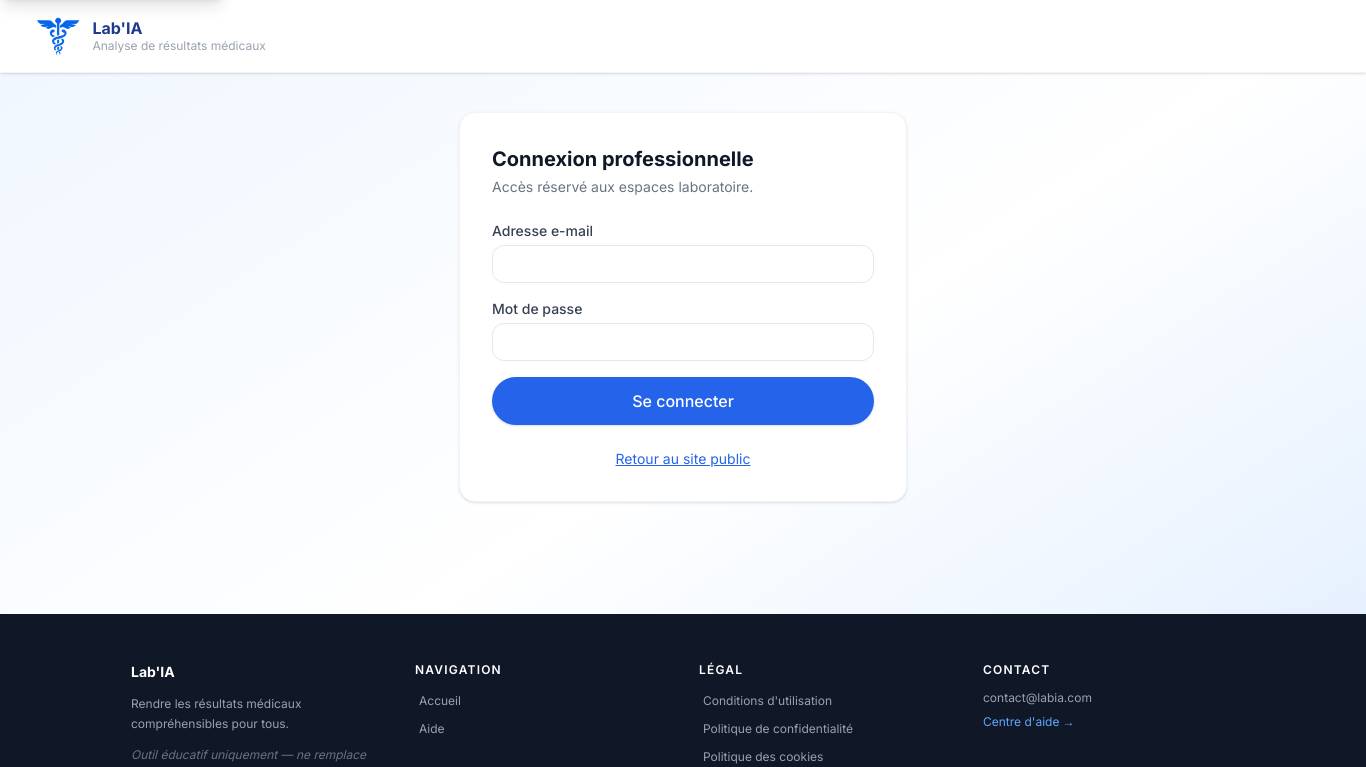
it: Page Login — intégration › affiche le message d'erreur quand login retourne false
This screenshot has width=1366, height=767.
In the field labelled "Adresse e-mail": (683, 264) [492,245,874,283], type "bad@test.com"
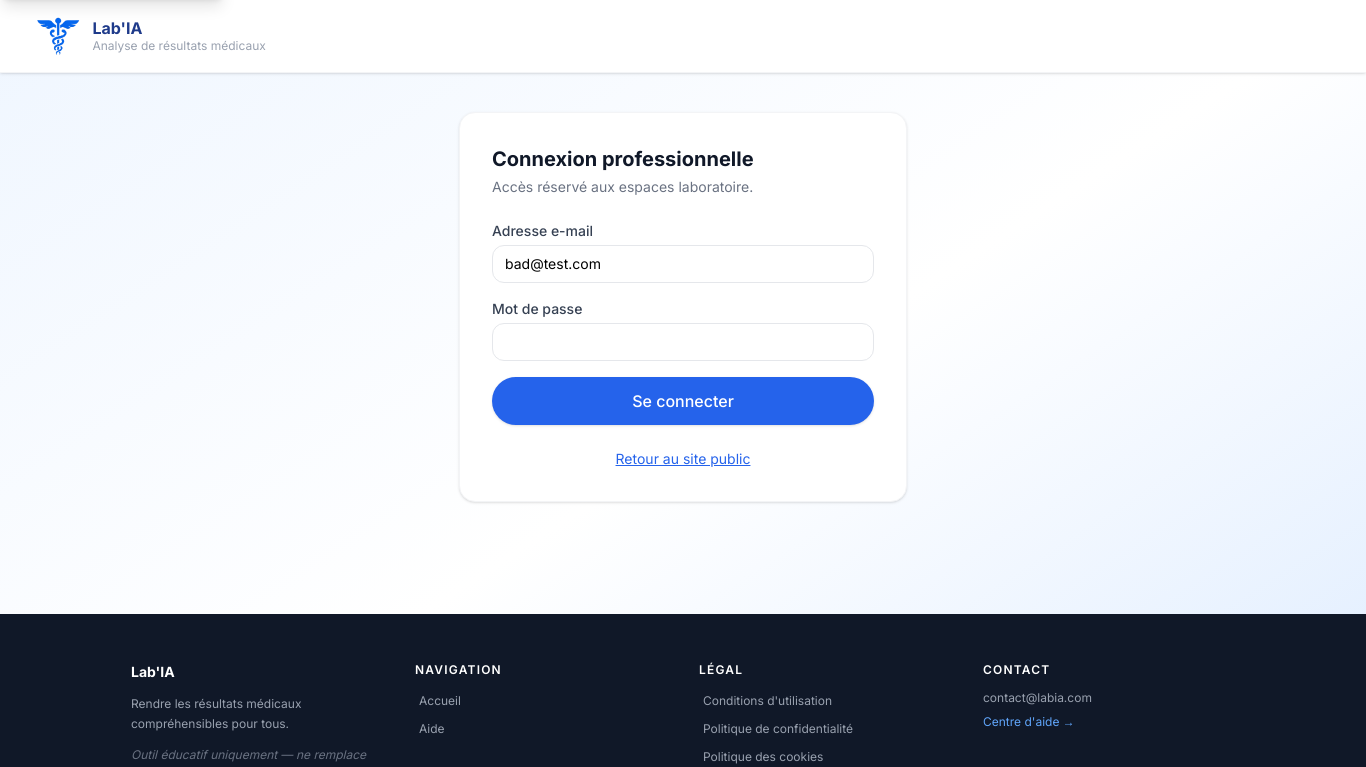
In the password field labelled "Mot de passe": (683, 342) [492,323,874,361], type "wrong"
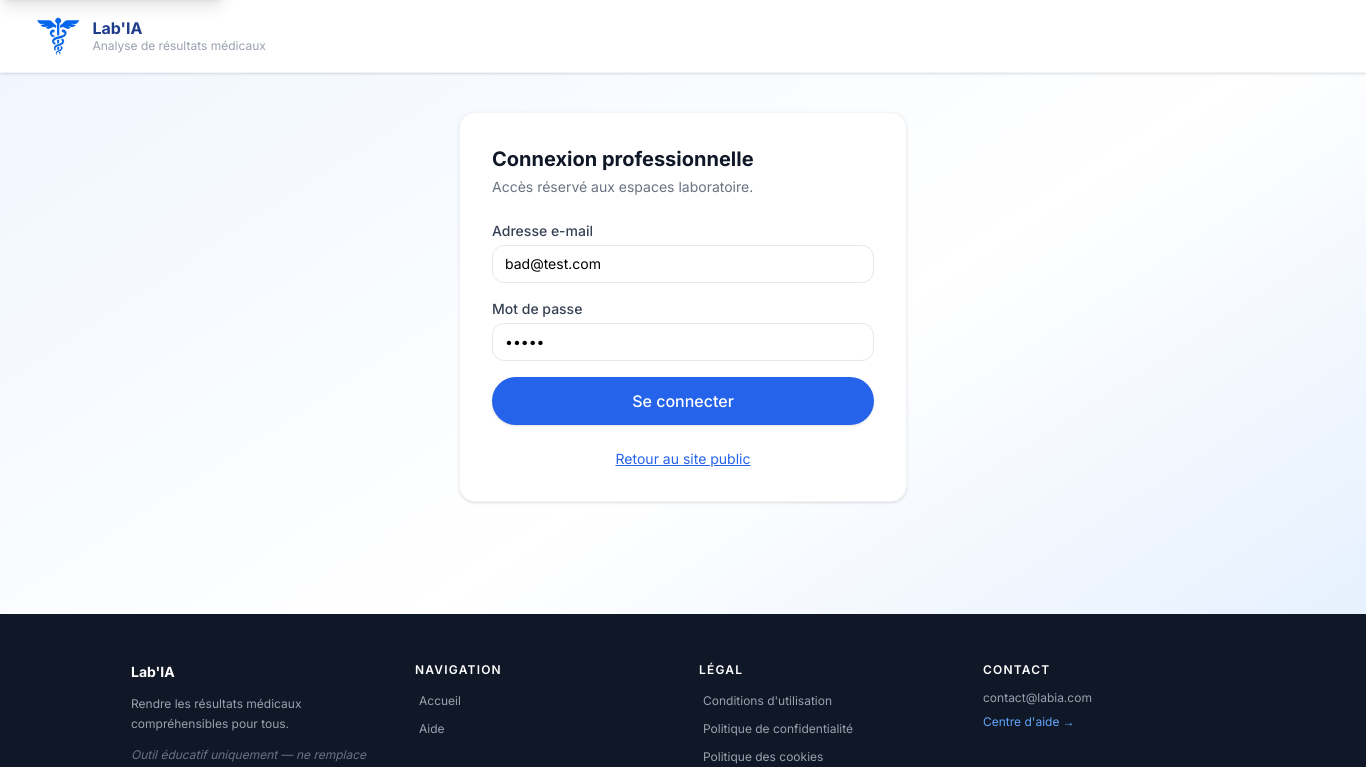
Click the button "Se connecter": (683, 401) [492,377,874,425]
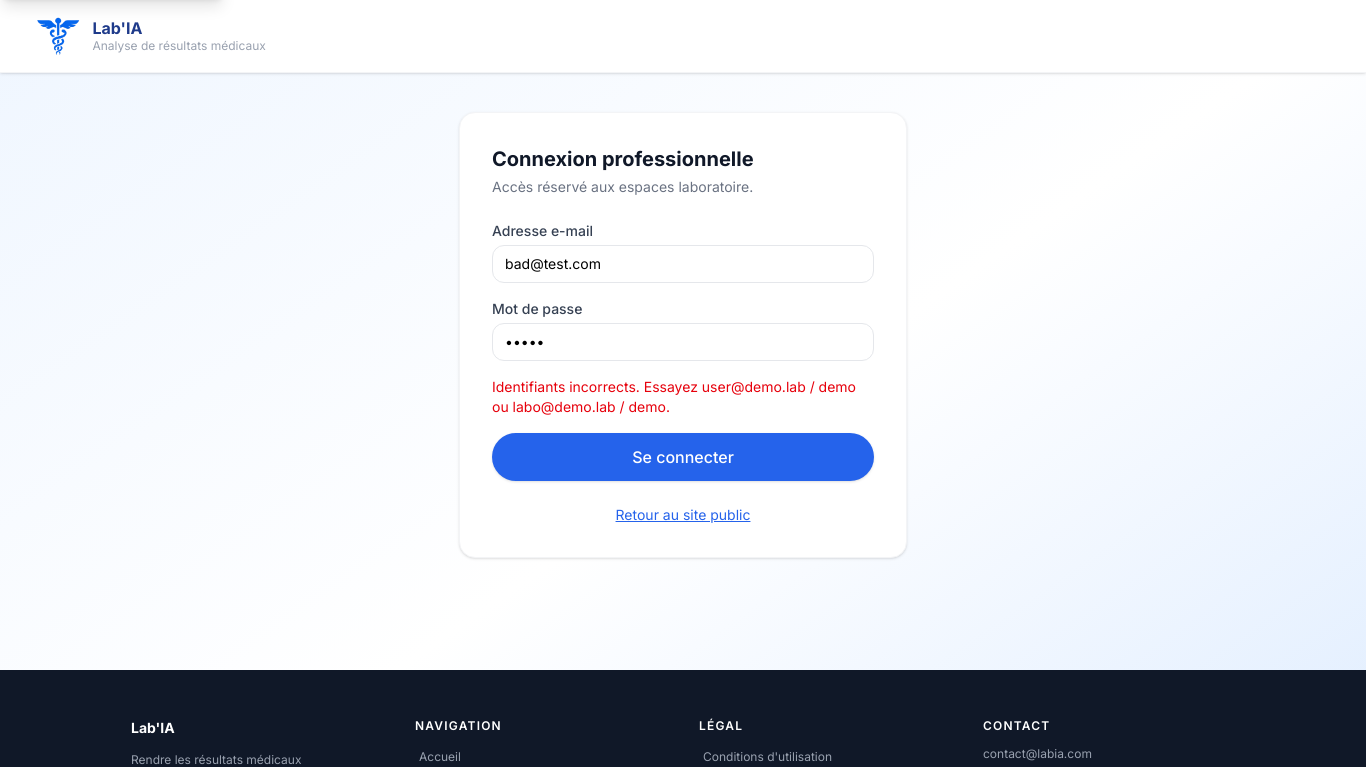
expect the message "Identifiants incorrects. Essayez user@demo.lab / demo ou labo@demo.lab / demo." is shown: met, box [492,377,874,417]
